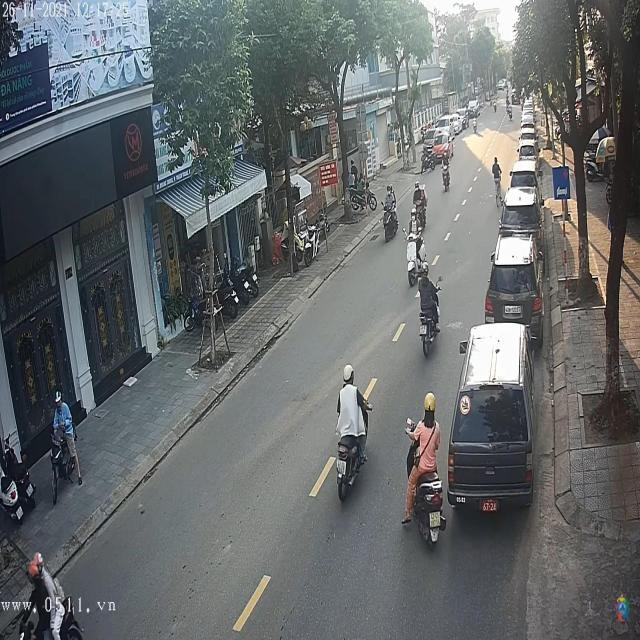car: (451, 322, 534, 504), (486, 237, 542, 330), (502, 180, 541, 235)
motorcycle: (335, 424, 371, 505), (49, 427, 80, 504), (413, 479, 445, 547), (405, 227, 428, 292), (418, 301, 442, 357), (382, 205, 400, 250)
